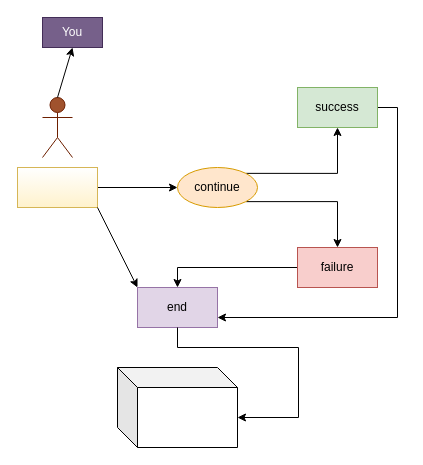
Some shapes in this 423 by 465 pixel diagram are drawn without their labels. Each missing label, with the centre of its shape:
Actor: point (57, 127)
experience: point (177, 407)
start: point (57, 187)
